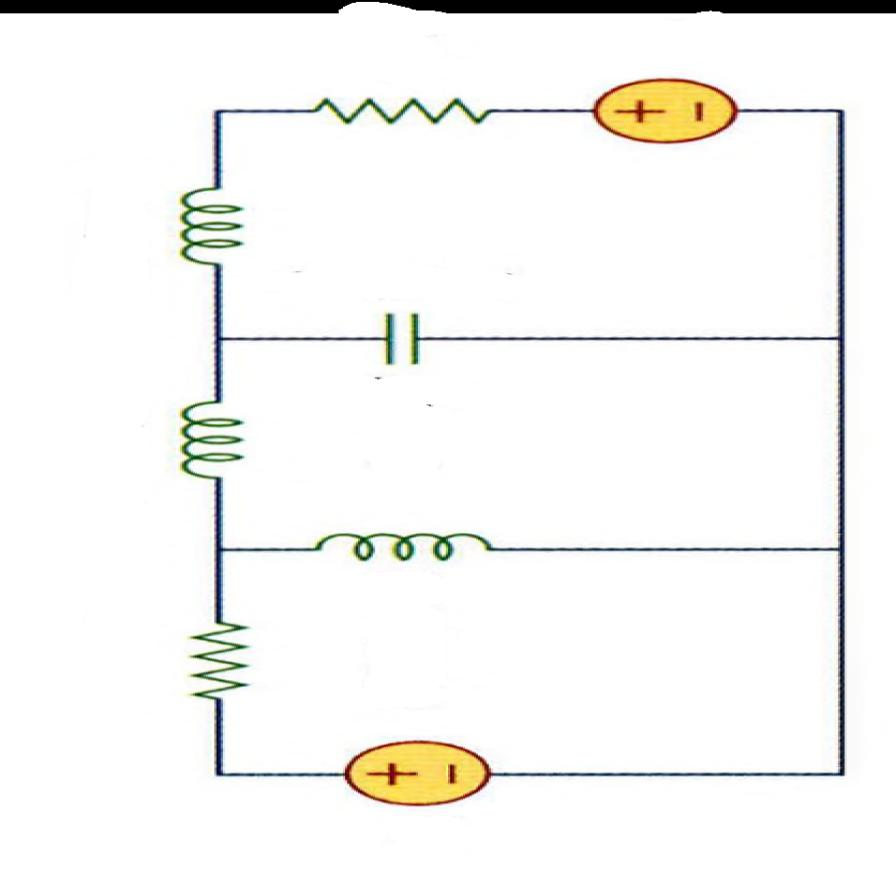C1: (346, 303, 466, 374)
L1: (309, 515, 505, 578)
V4: (588, 70, 741, 149), (334, 738, 494, 806)
